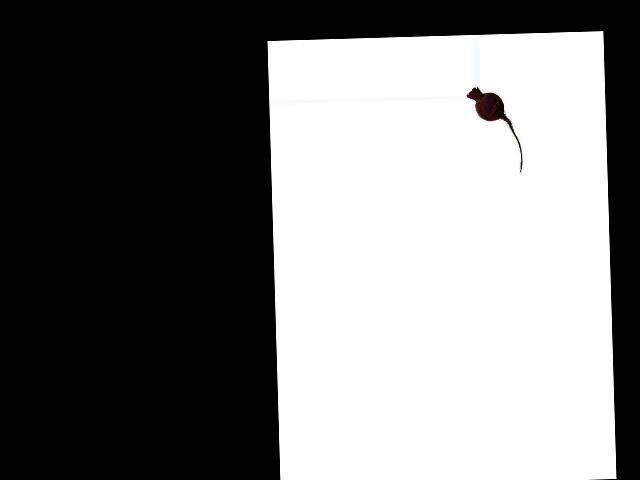beet: (466, 86, 523, 174)
